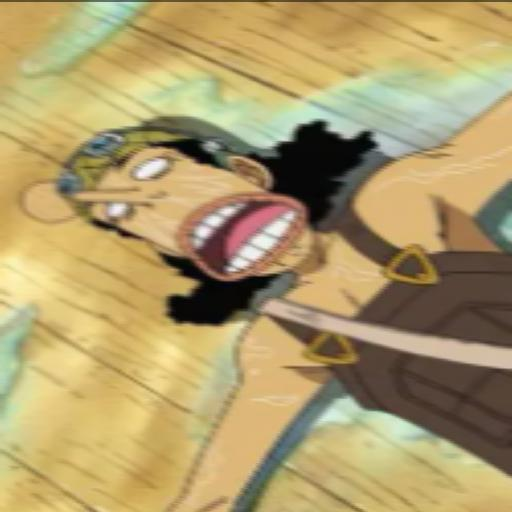Usopp: (7, 82, 512, 512)
